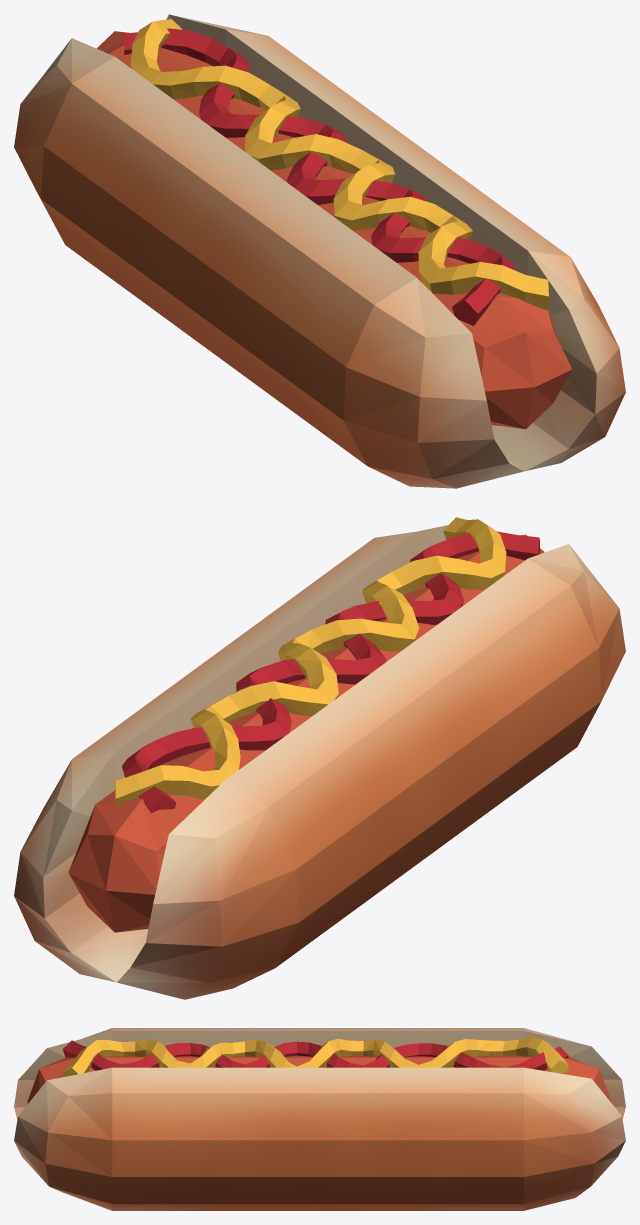
The model's file is hotdog.glb.
3 renders of one model, top to bottom at view 1: azimuth 30°, elevation 25°; view 2: azimuth 150°, elevation 25°; view 3: azimuth 270°, elevation 25°, orthographic. The views are drawn at different scales.
Parts seen in each view (by area): view 1: node-0; view 2: node-0; view 3: node-0.
Boxes of the visible parts, left/top/right/bottom form: node-0: left=14, top=14, right=625, bottom=488; node-0: left=14, top=517, right=625, bottom=999; node-0: left=14, top=1028, right=625, bottom=1210.
Bounding box in the file's own units: 0.1534 × 0.125 × 0.4626.
Materials: 4 (1 with a texture image).
